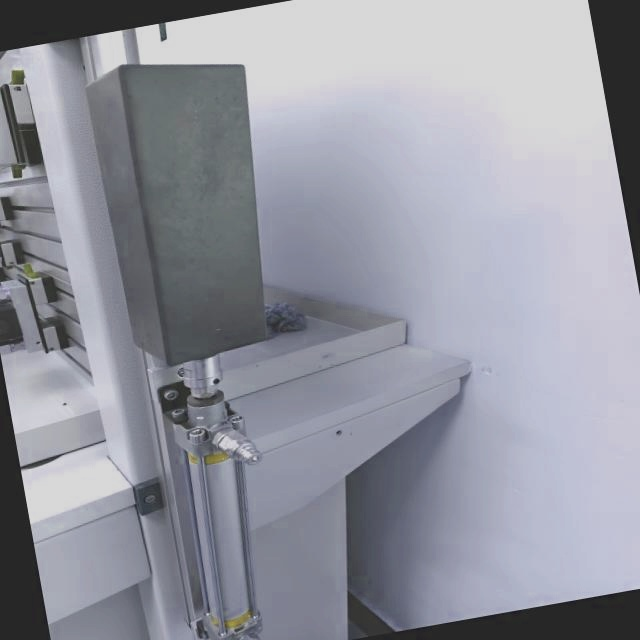load: (55, 21, 355, 640)
